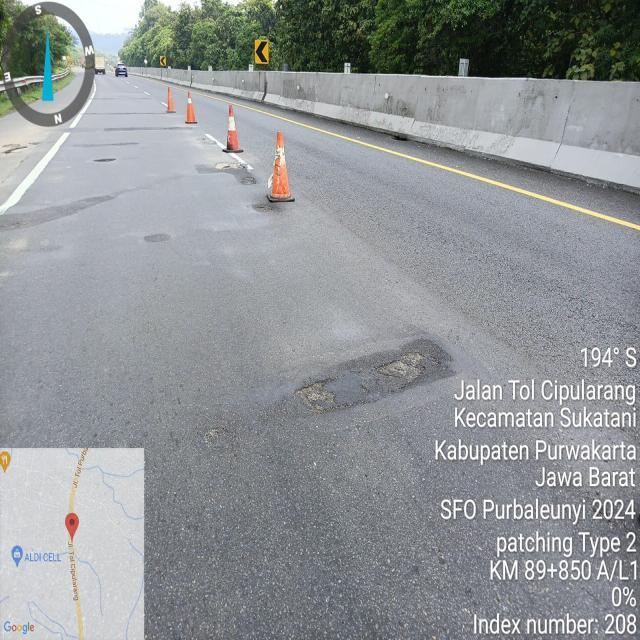Buraco: (373, 350, 431, 386), (291, 376, 340, 416), (1, 142, 30, 155), (212, 161, 248, 171), (250, 202, 277, 214), (389, 134, 412, 143), (193, 137, 217, 145), (240, 176, 258, 186), (92, 158, 117, 164)
